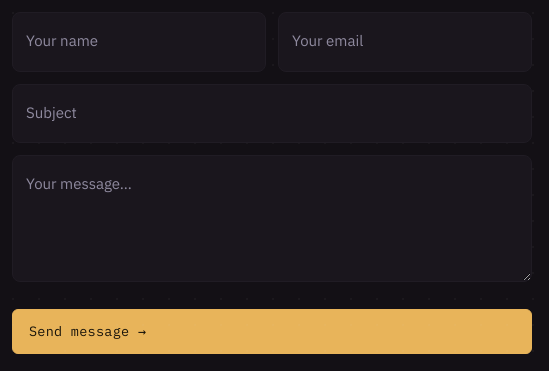
it: ContactForm › opens a mailto link built from the fields and shows the sent state
The image size is (549, 371).
Type "Ada" into the field labelled "Your name". click: (139, 42)
box: [12,12,266,72]
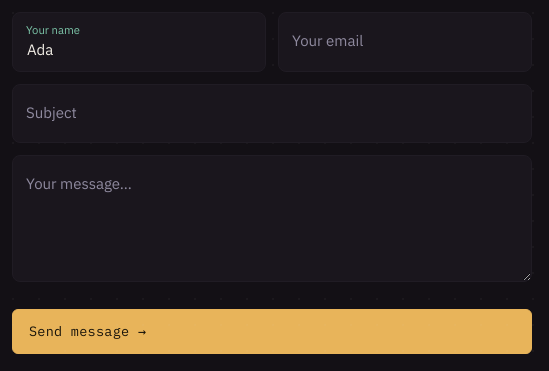
Type "ada@x.io" into the field labelled "Your email". click: (405, 42)
box: [278,12,532,72]
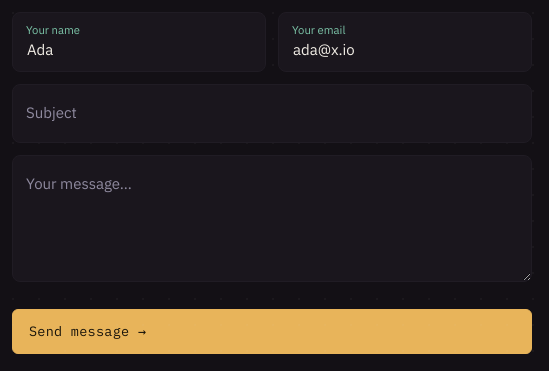
Type "Hello" into the field labelled "Subject". click: (272, 113)
box: [12,84,532,143]
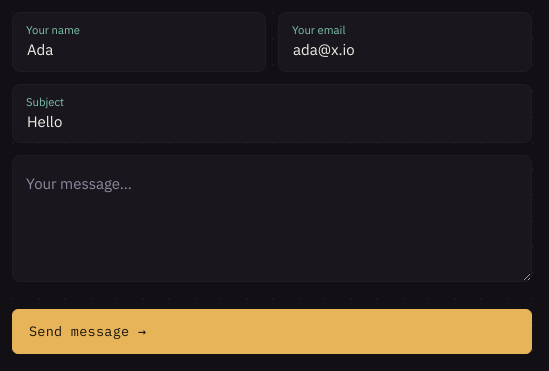
Type "Nice site" into the text box labelled "Your message…". click: (272, 218)
box: [12,155,532,282]
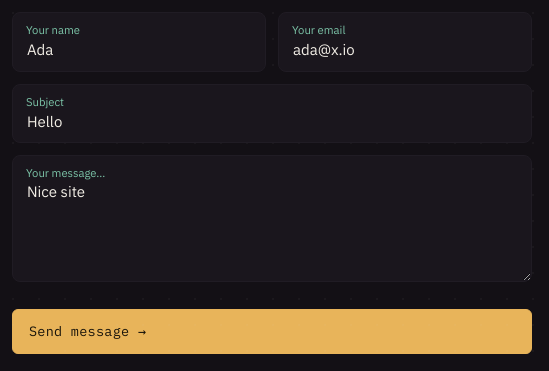
Click the button "Send message →". click: (88, 331)
box: [12,309,532,354]
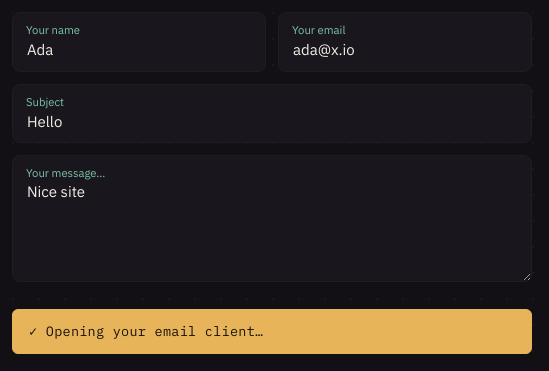
Now the button "✓ Opening your email client…" is shown, box [12,309,532,354]
